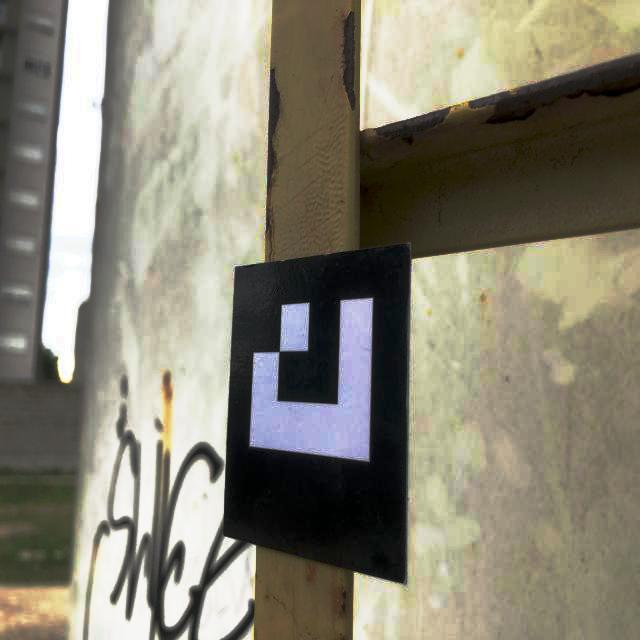Corrosion: (467, 54, 640, 126), (372, 107, 451, 146), (265, 68, 281, 239), (340, 10, 357, 114), (338, 588, 347, 616), (162, 375, 172, 399), (341, 636, 348, 640)
